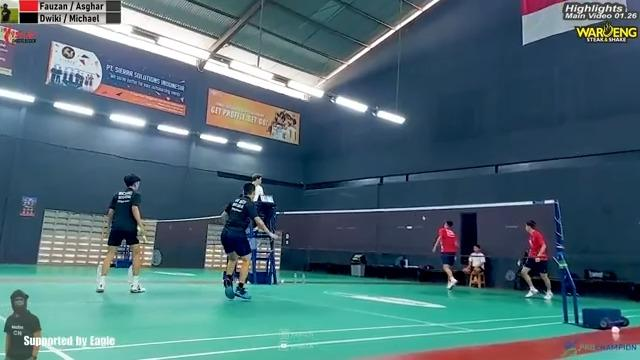Shuttlecock: (421, 214, 429, 221)
